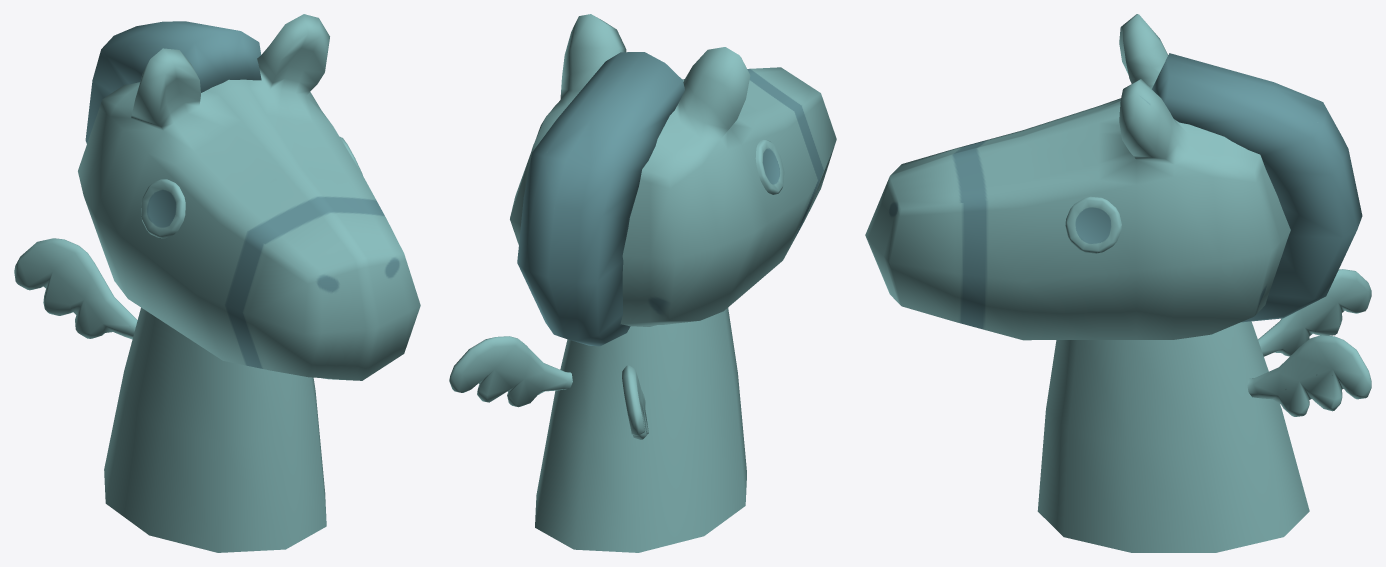
The model's file is Horse.fbx.
The picture shows the model from 3 angles, left to right: view 1: azimuth 30°, elevation 25°; view 2: azimuth 150°, elevation 25°; view 3: azimuth 270°, elevation 25°; orthographic projection. The views are drawn at different scales.
Parts seen in each view (by area): view 1: Horse; view 2: Horse; view 3: Horse.
Boxes of the visible parts, x1,y1,x2,y2 form: Horse: [14, 14, 420, 552]; Horse: [449, 14, 836, 552]; Horse: [865, 14, 1371, 552].
Bounding box in the file's own units: 197 × 376 × 372.
